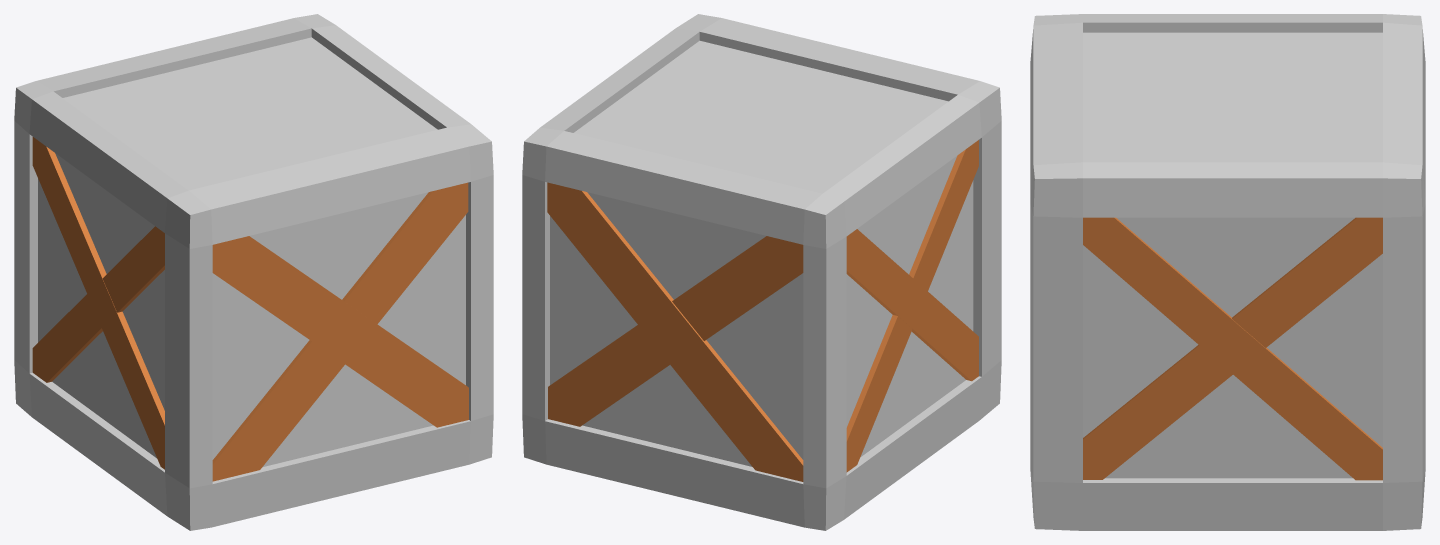
File: crate.fbx
3 renders of one model, left to right at view 1: azimuth 30°, elevation 25°; view 2: azimuth 150°, elevation 25°; view 3: azimuth 270°, elevation 25°, orthographic. The views are drawn at different scales.
Parts seen in each view (by area): view 1: crate, crate planks; view 2: crate, crate planks; view 3: crate, crate planks.
Boxes of the visible parts, left/top/right/bottom form: crate: left=14, top=14, right=493, bottom=530; crate planks: left=32, top=137, right=468, bottom=481; crate: left=522, top=14, right=1001, bottom=530; crate planks: left=547, top=140, right=978, bottom=481; crate: left=1030, top=14, right=1425, bottom=530; crate planks: left=1083, top=217, right=1382, bottom=480.
Bounding box in the file's own units: 87.99 × 87.99 × 87.99.
